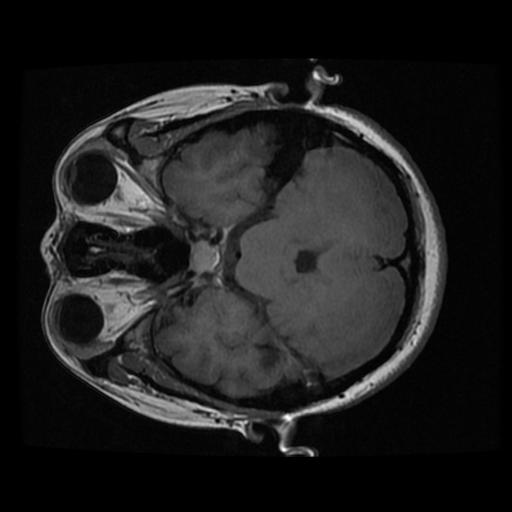pituitary tumour: (191, 240, 218, 274)
